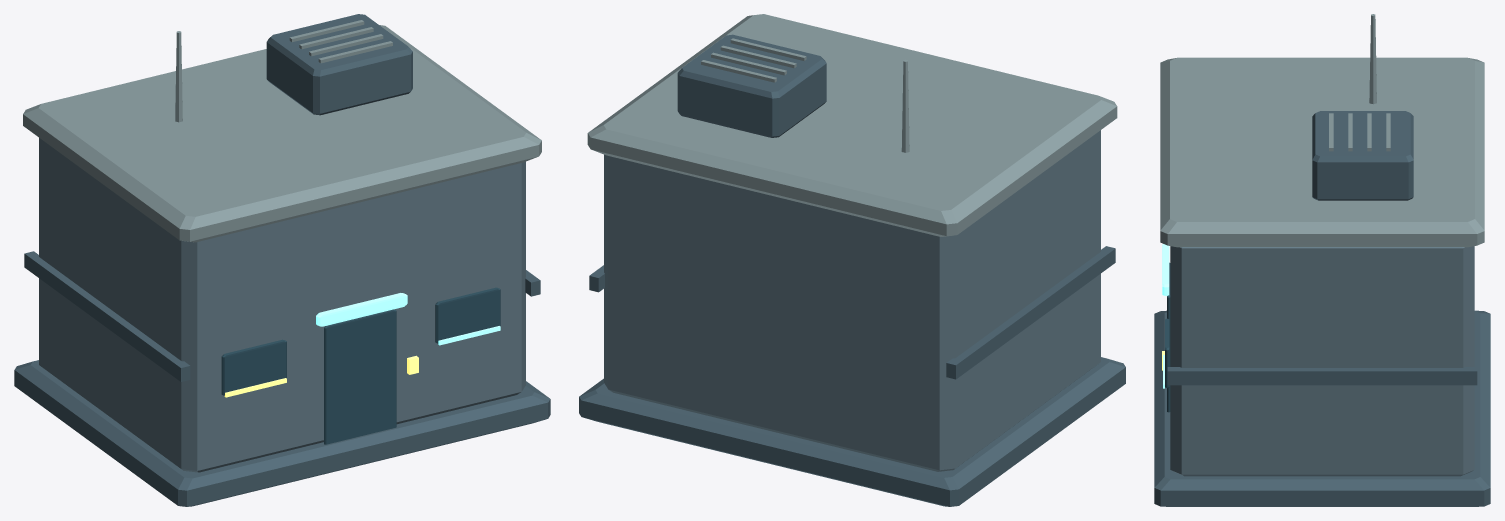
File: SM_ELY_BLD_000_Habitat.glb
3 renders of one model, left to right at view 1: azimuth 30°, elevation 25°; view 2: azimuth 150°, elevation 25°; view 3: azimuth 270°, elevation 25°, orthographic. The views are drawn at different scales.
Parts seen in each view (by area): view 1: SM_ELY_BLD_000_Habitat; view 2: SM_ELY_BLD_000_Habitat; view 3: SM_ELY_BLD_000_Habitat.
Boxes of the visible parts, bbox=[...] form: SM_ELY_BLD_000_Habitat: bbox=[14, 14, 550, 506]; SM_ELY_BLD_000_Habitat: bbox=[579, 14, 1125, 506]; SM_ELY_BLD_000_Habitat: bbox=[1154, 14, 1490, 506].
Bounding box in the file's own units: 3.35 × 3.22 × 2.65.
